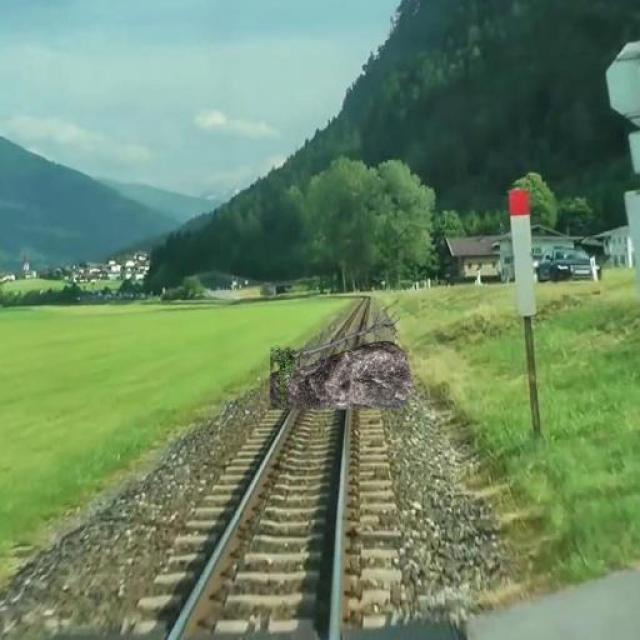Stone: (265, 311, 422, 418)
